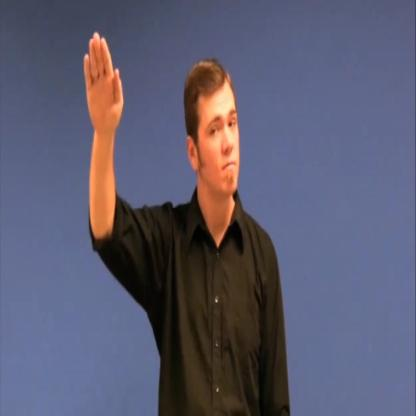Hello: (70, 19, 248, 245)
